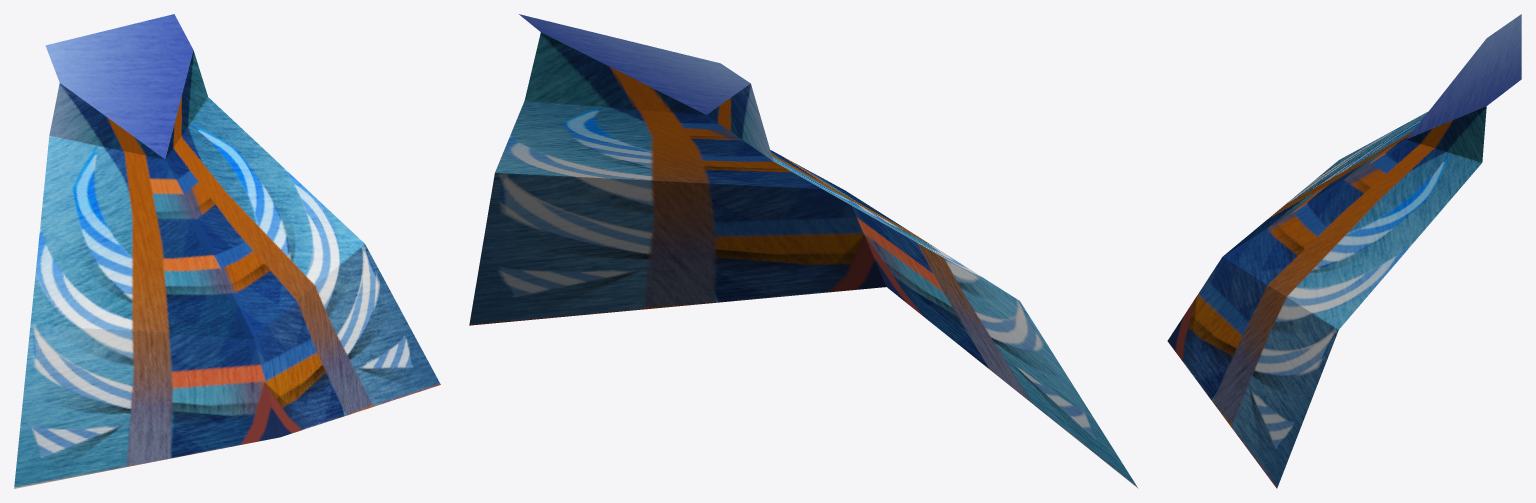
File: dream_4.obj
The picture shows the model from 3 angles, left to right: view 1: azimuth 30°, elevation 25°; view 2: azimuth 150°, elevation 25°; view 3: azimuth 270°, elevation 25°; orthographic projection. The views are drawn at different scales.
Visible parts, largest first — view 1: dream_4:Mesh; view 2: dream_4:Mesh; view 3: dream_4:Mesh.
Boxes of the visible parts, x1,y1,x2,y2 form: dream_4:Mesh: (14, 14, 440, 488); dream_4:Mesh: (469, 14, 1138, 488); dream_4:Mesh: (1167, 14, 1521, 488).
Size of the model in its own units: 224 by 161 by 155.
Materials: 1 (1 with a texture image).
